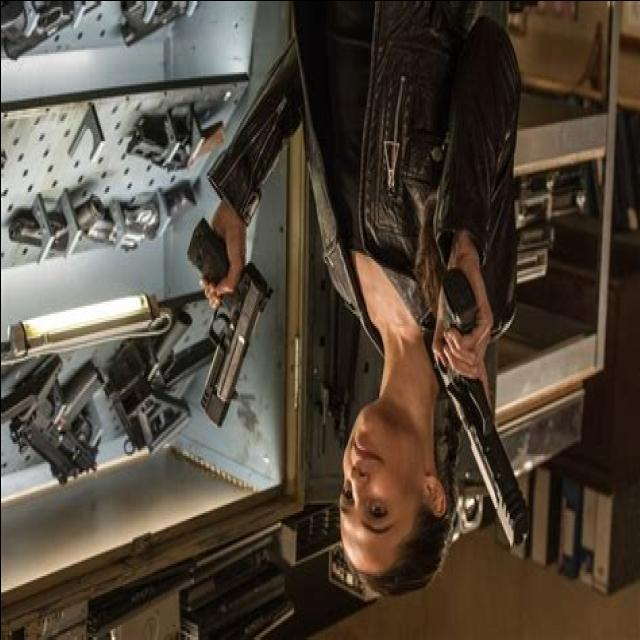weapons: (395, 226, 537, 580), (174, 198, 278, 451)
